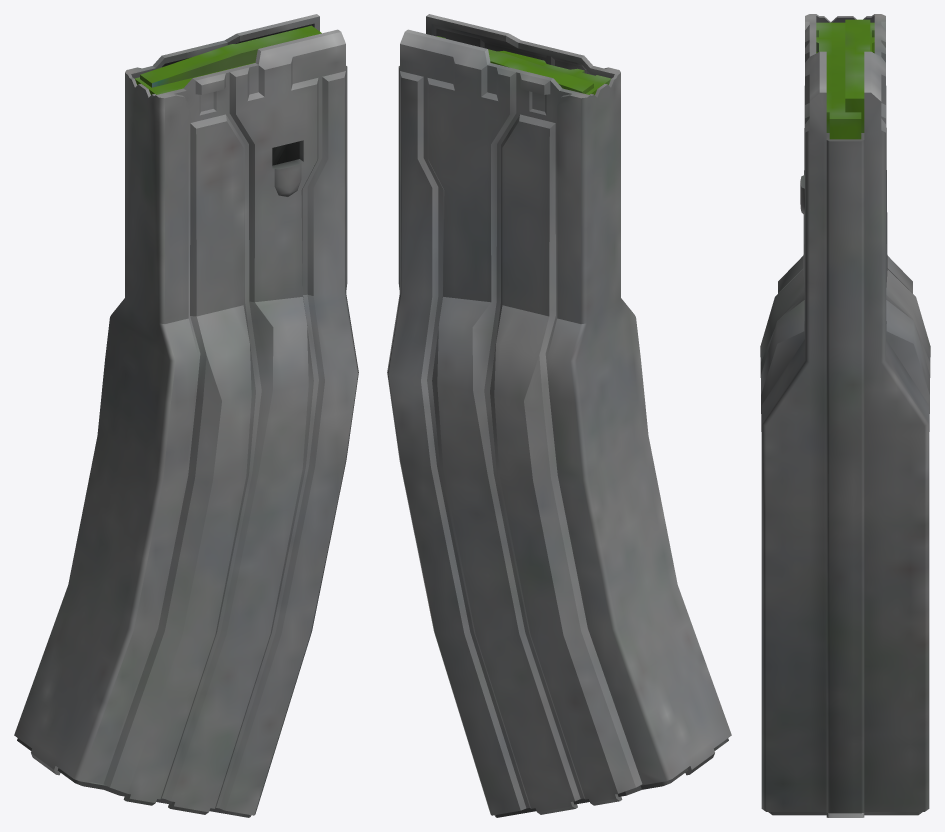
Rendered from stanag60.obj.
3 views of the same model, side by side, from view 1: azimuth 30°, elevation 25°; view 2: azimuth 150°, elevation 25°; view 3: azimuth 270°, elevation 25° (orthographic). The views are drawn at different scales.
Visible parts, largest first — view 1: Magazine_60, Magazine_60_follower; view 2: Magazine_60, Magazine_60_follower; view 3: Magazine_60, Magazine_60_follower.
Boxes of the visible parts, x1,y1,x2,y2 form: Magazine_60: [14, 14, 358, 817]; Magazine_60_follower: [134, 25, 321, 94]; Magazine_60: [387, 14, 731, 817]; Magazine_60_follower: [437, 36, 611, 94]; Magazine_60: [760, 14, 930, 817]; Magazine_60_follower: [816, 19, 874, 139].
Size of the model in its own units: 0.1879 by 0.4474 by 0.0884.
